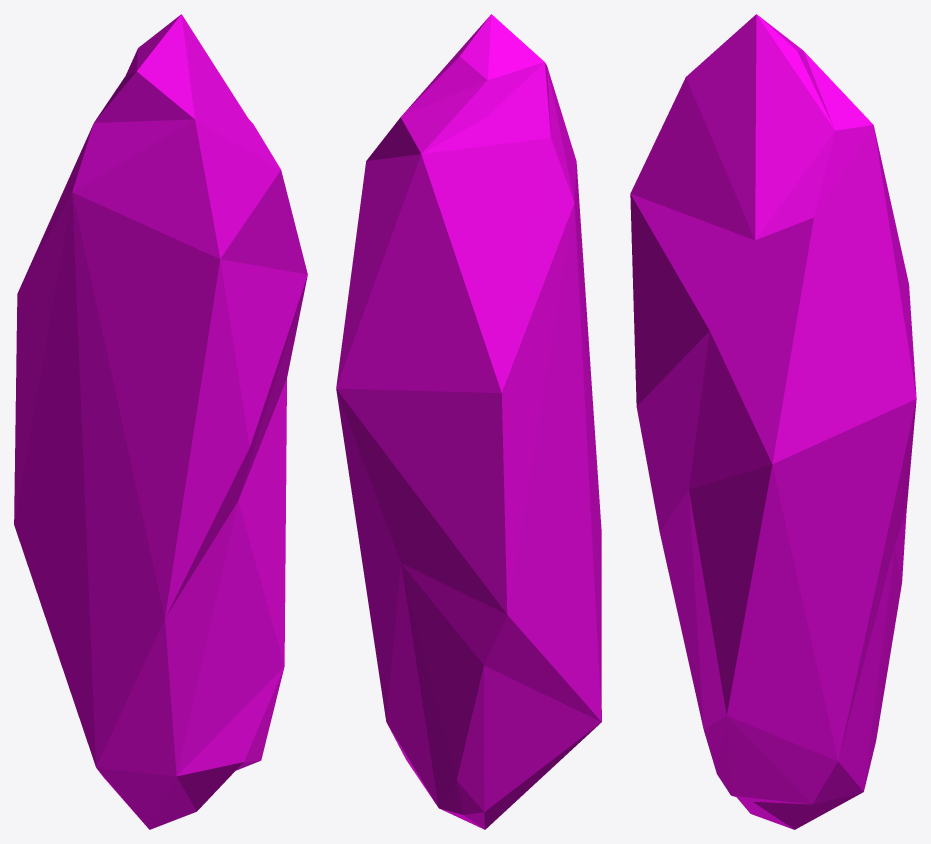
File: Crystal_2.fbx
3 renders of one model, left to right at view 1: azimuth 30°, elevation 25°; view 2: azimuth 150°, elevation 25°; view 3: azimuth 270°, elevation 25°, orthographic. The views are drawn at different scales.
Visible parts, largest first — view 1: Crystal_4; view 2: Crystal_4; view 3: Crystal_4.
Boxes of the visible parts, left/top/right/bottom form: Crystal_4: left=14, top=14, right=307, bottom=829; Crystal_4: left=336, top=14, right=601, bottom=829; Crystal_4: left=630, top=14, right=916, bottom=829.
Bounding box in the file's own units: 30.93 × 115 × 36.16.
